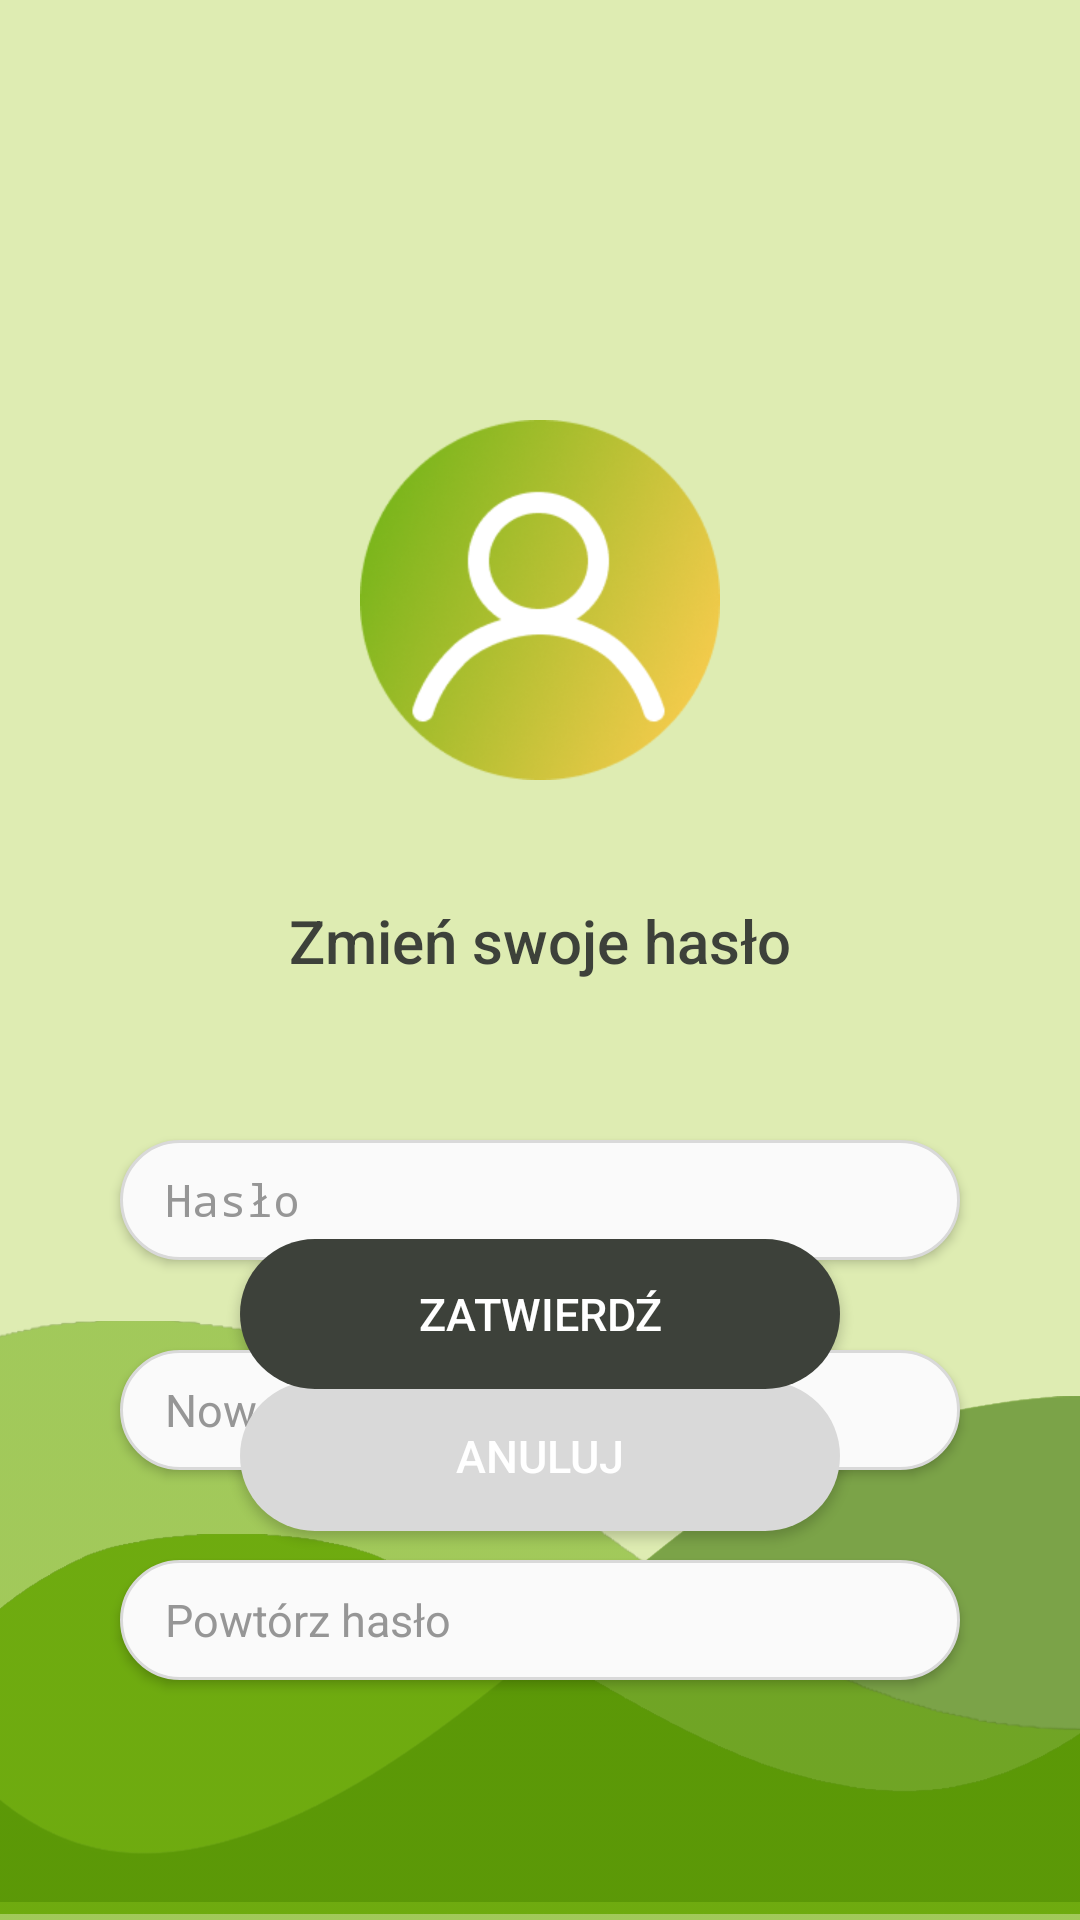

Named icons in this screenshot (1080*1920) and their bounding boxes, bbox(x1, y1, x2, y2):
user: bbox(360, 420, 720, 780)
